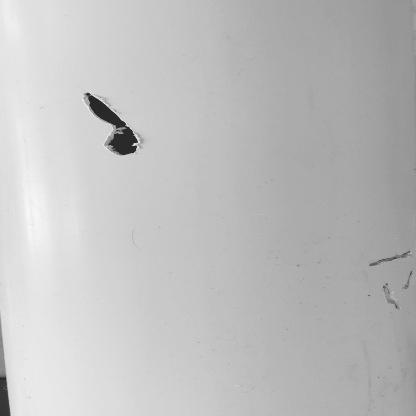fengxi: (369, 250, 416, 267), (385, 285, 400, 316), (403, 270, 416, 293)
kongdong: (79, 92, 147, 159)
